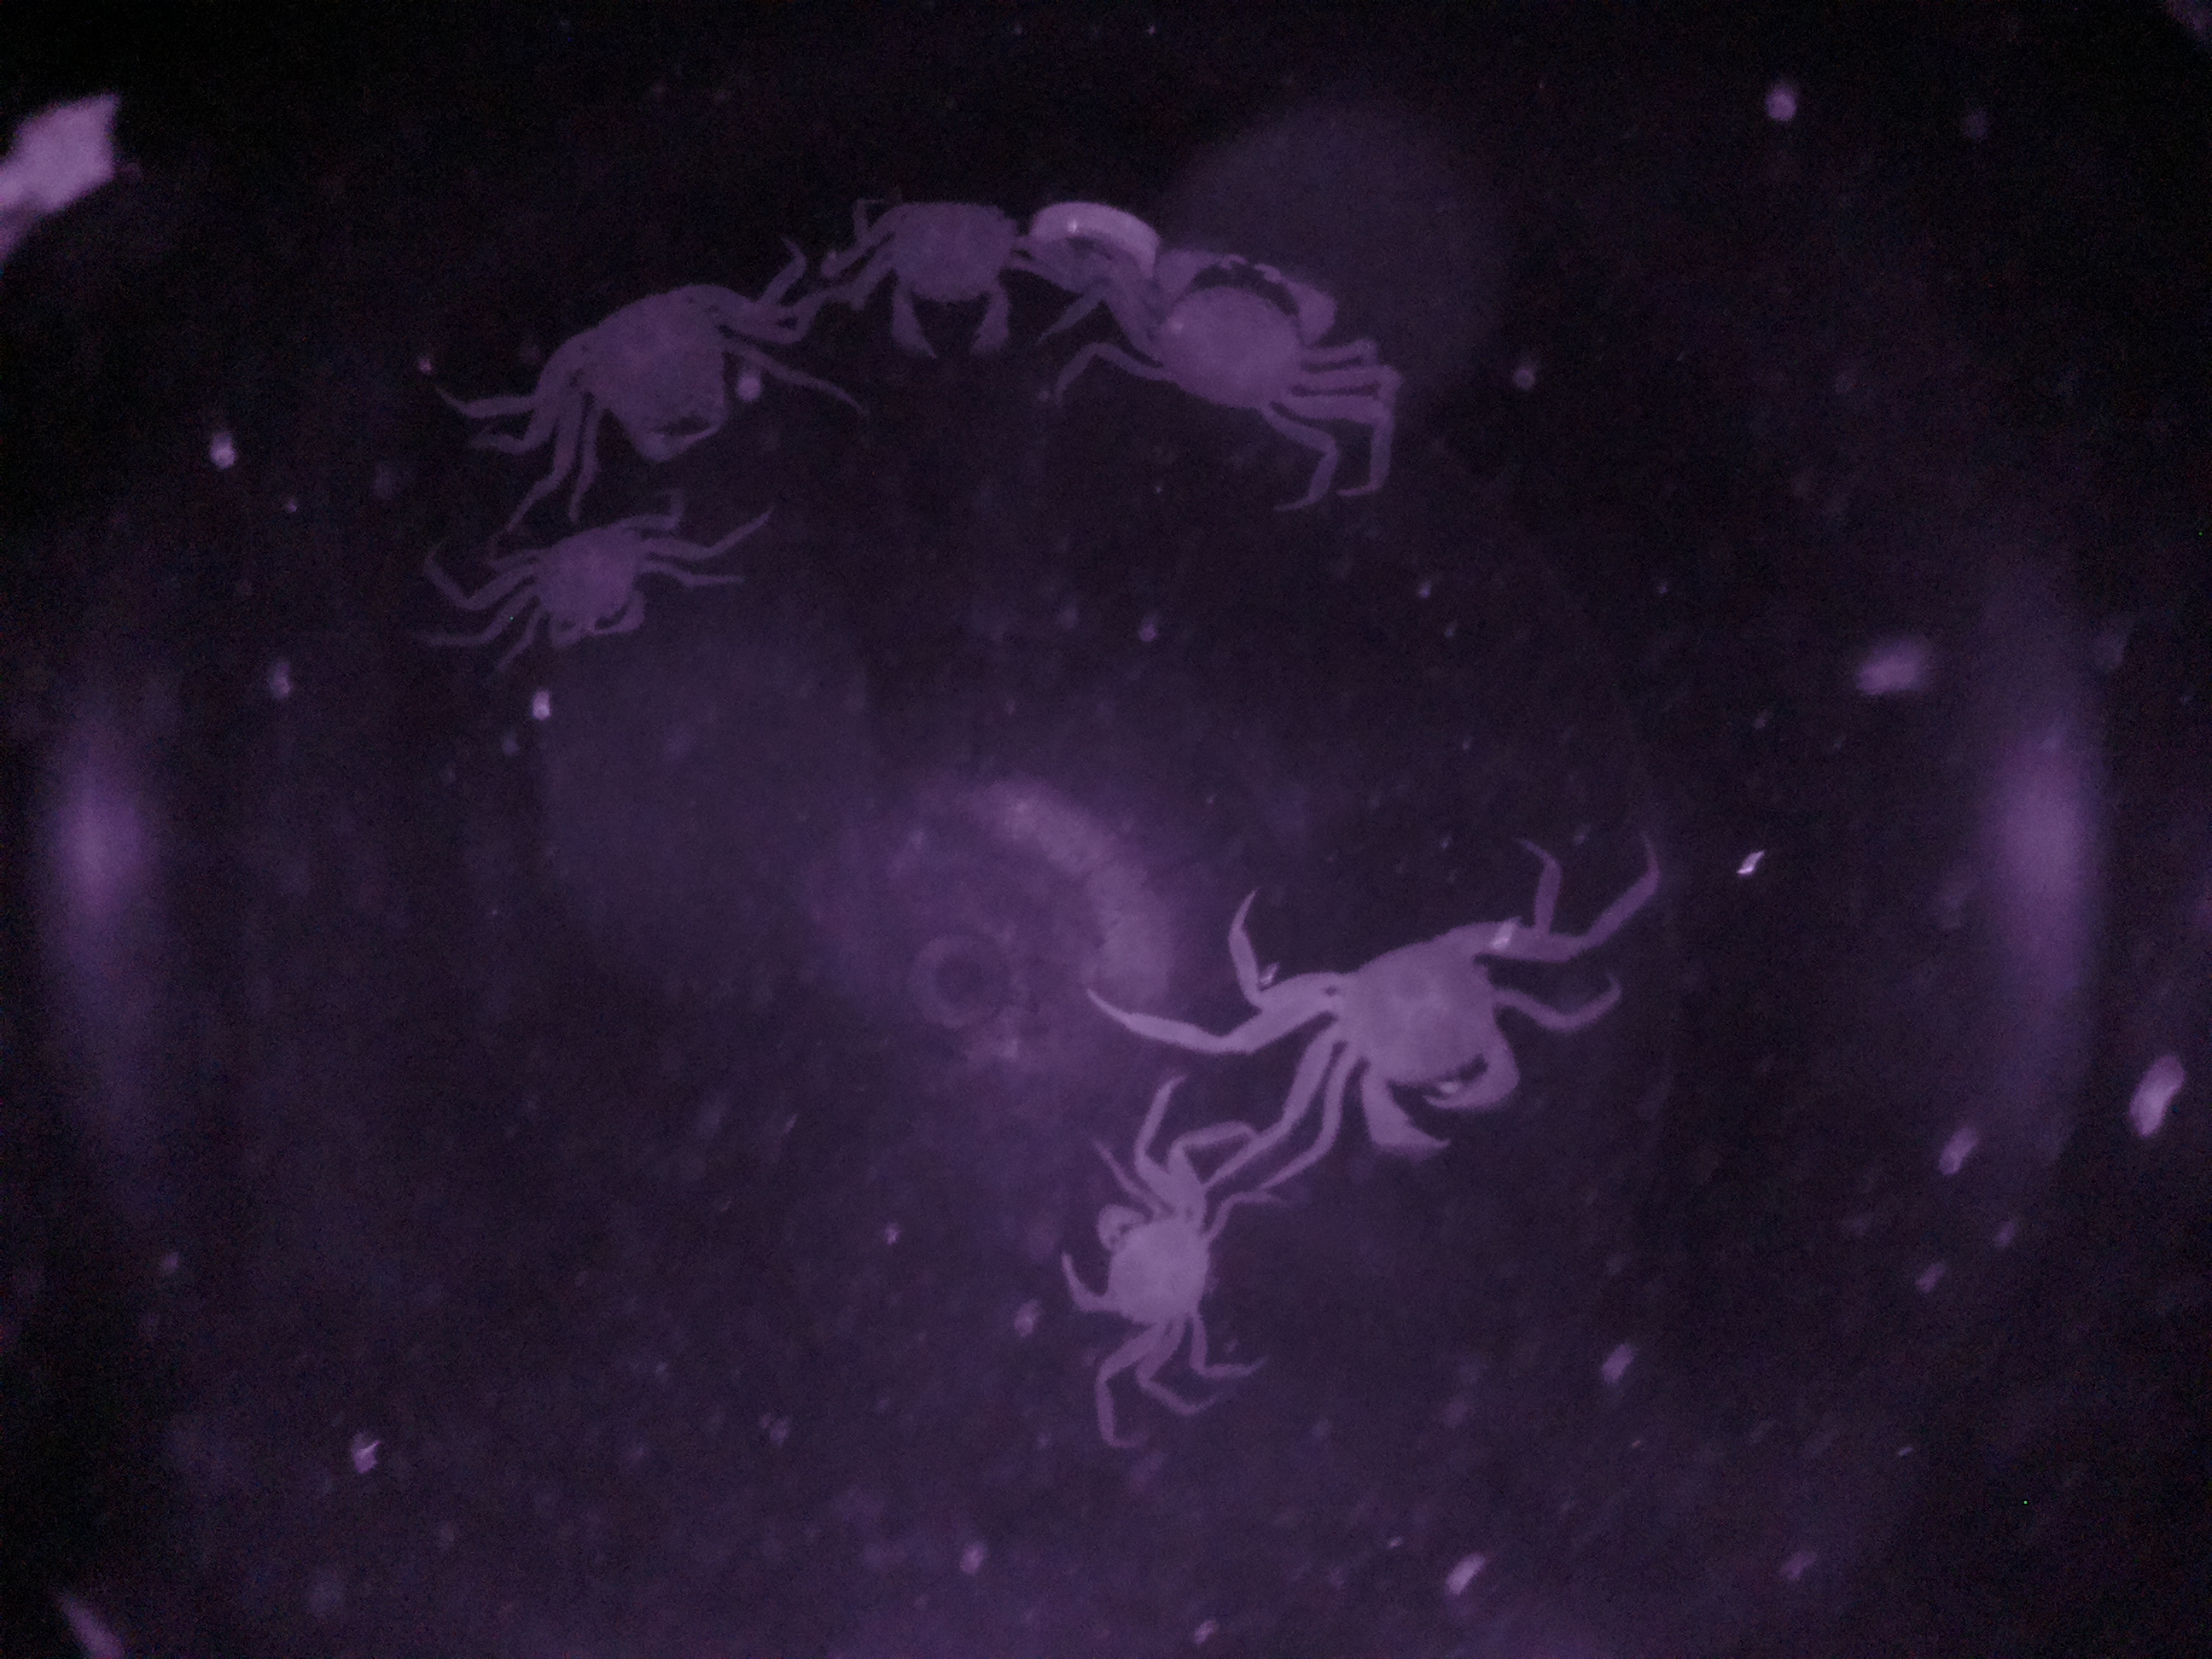Crab: (1268, 889, 1580, 1183), (1099, 230, 1366, 453), (1055, 1129, 1245, 1384), (448, 491, 709, 666)
